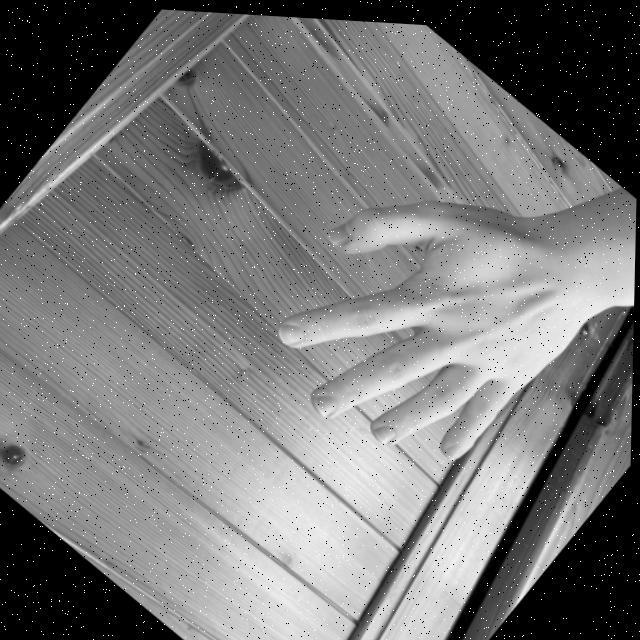no-gloves: (232, 114, 618, 517)
